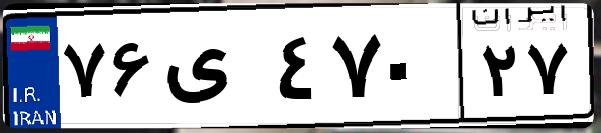0: (385, 28, 445, 110)
2: (475, 38, 525, 113)
4: (270, 28, 330, 110)
6: (110, 28, 158, 98)
7: (330, 28, 385, 110), (57, 26, 110, 100), (525, 38, 570, 115)
ی: (158, 20, 270, 120)
